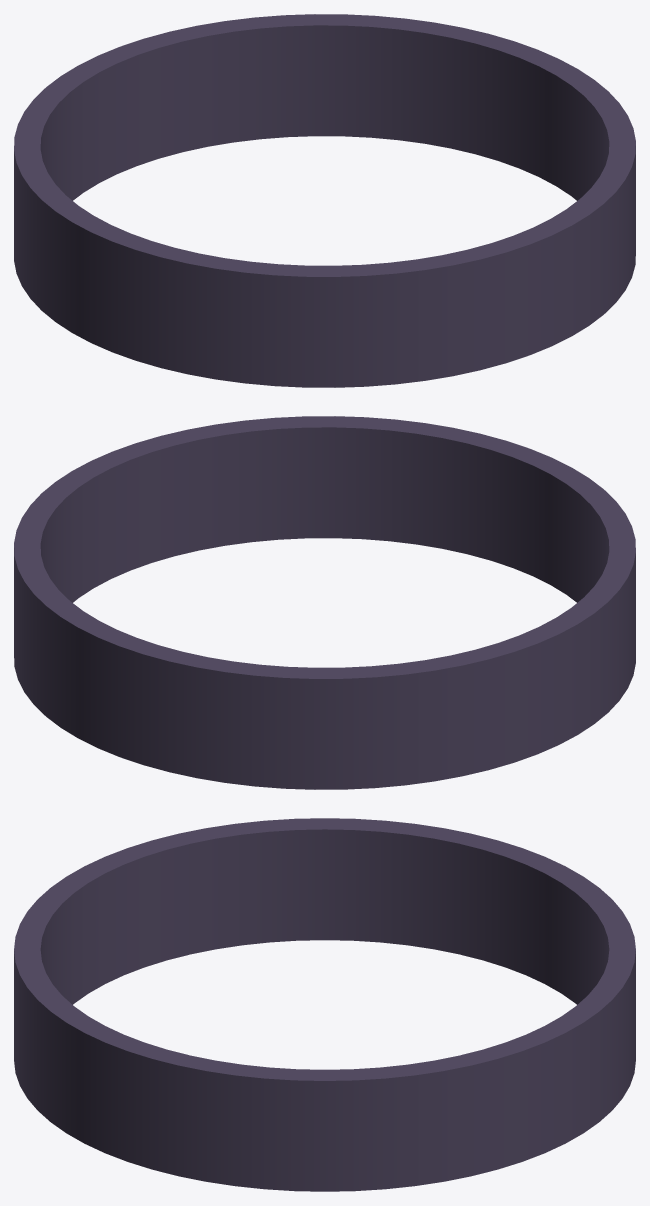
Rendered from OuterCorrect_0.fbx.
The picture shows the model from 3 angles, top to bottom: view 1: azimuth 30°, elevation 25°; view 2: azimuth 150°, elevation 25°; view 3: azimuth 270°, elevation 25°; orthographic projection.
Visible parts, largest first — view 1: Outer_0; view 2: Outer_0; view 3: Outer_0.
Part boxes in pixels (<box>): Outer_0: <box>14,14,635,387</box>; Outer_0: <box>14,416,635,789</box>; Outer_0: <box>14,818,635,1191</box>.
Size of the model in its own units: 177 by 34.73 by 177.
